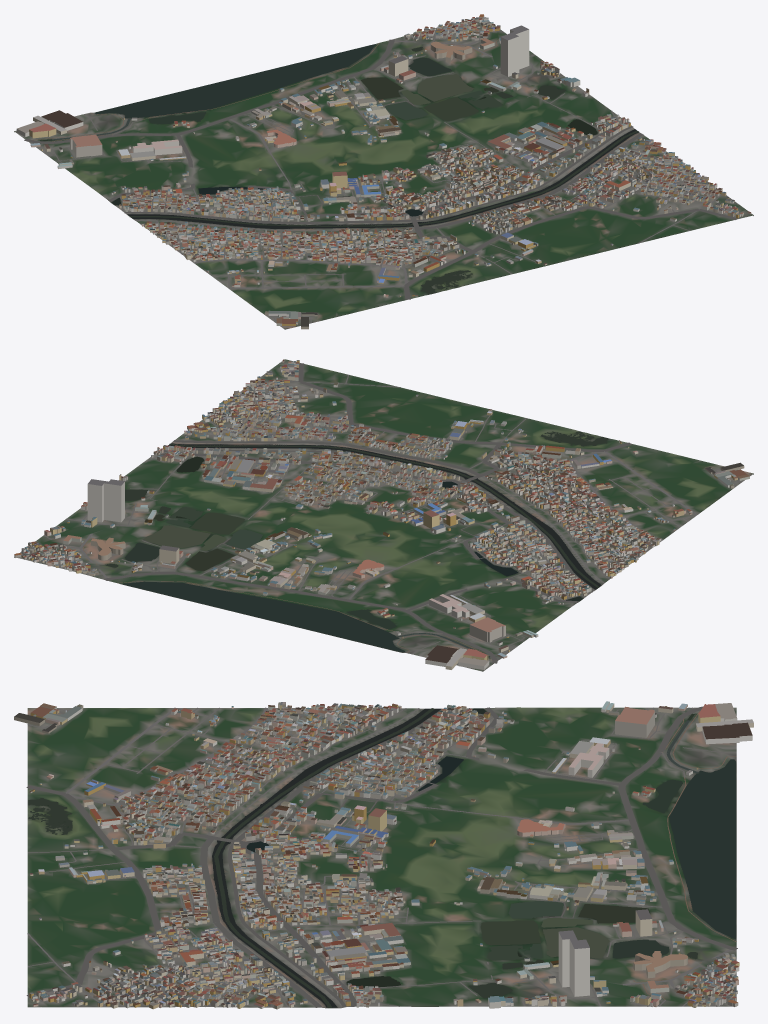
The picture shows the model from 3 angles, top to bottom: view 1: azimuth 30°, elevation 25°; view 2: azimuth 150°, elevation 25°; view 3: azimuth 270°, elevation 25°; orthographic projection. The views are drawn at different scales.
Parts seen in each view (by area): view 1: ground, buildings, water, roads; view 2: ground, buildings, water, roads; view 3: ground, buildings, water, roads.
Boxes of the visible parts, box(x1,y1,x2,y2) form: ground: box(14, 19, 753, 329); buildings: box(16, 14, 751, 329); water: box(33, 44, 638, 294); roads: box(24, 22, 739, 323); ground: box(14, 359, 753, 671); buildings: box(14, 359, 749, 669); water: box(105, 431, 609, 658); roads: box(21, 363, 743, 663); ground: box(27, 707, 736, 1008); buildings: box(14, 701, 753, 1009); water: box(28, 707, 735, 1008); roads: box(26, 706, 737, 1007).
Bounding box in the file's own units: 1426 × 110 × 1463.
